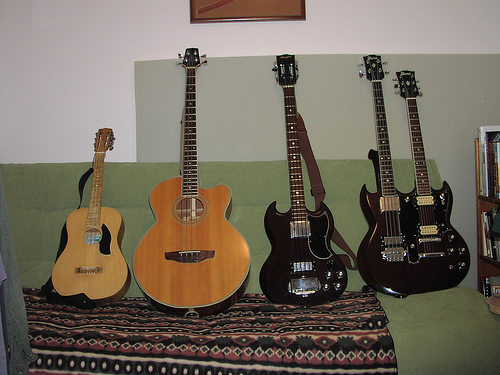guitar: (132, 44, 253, 319), (50, 123, 132, 306)
